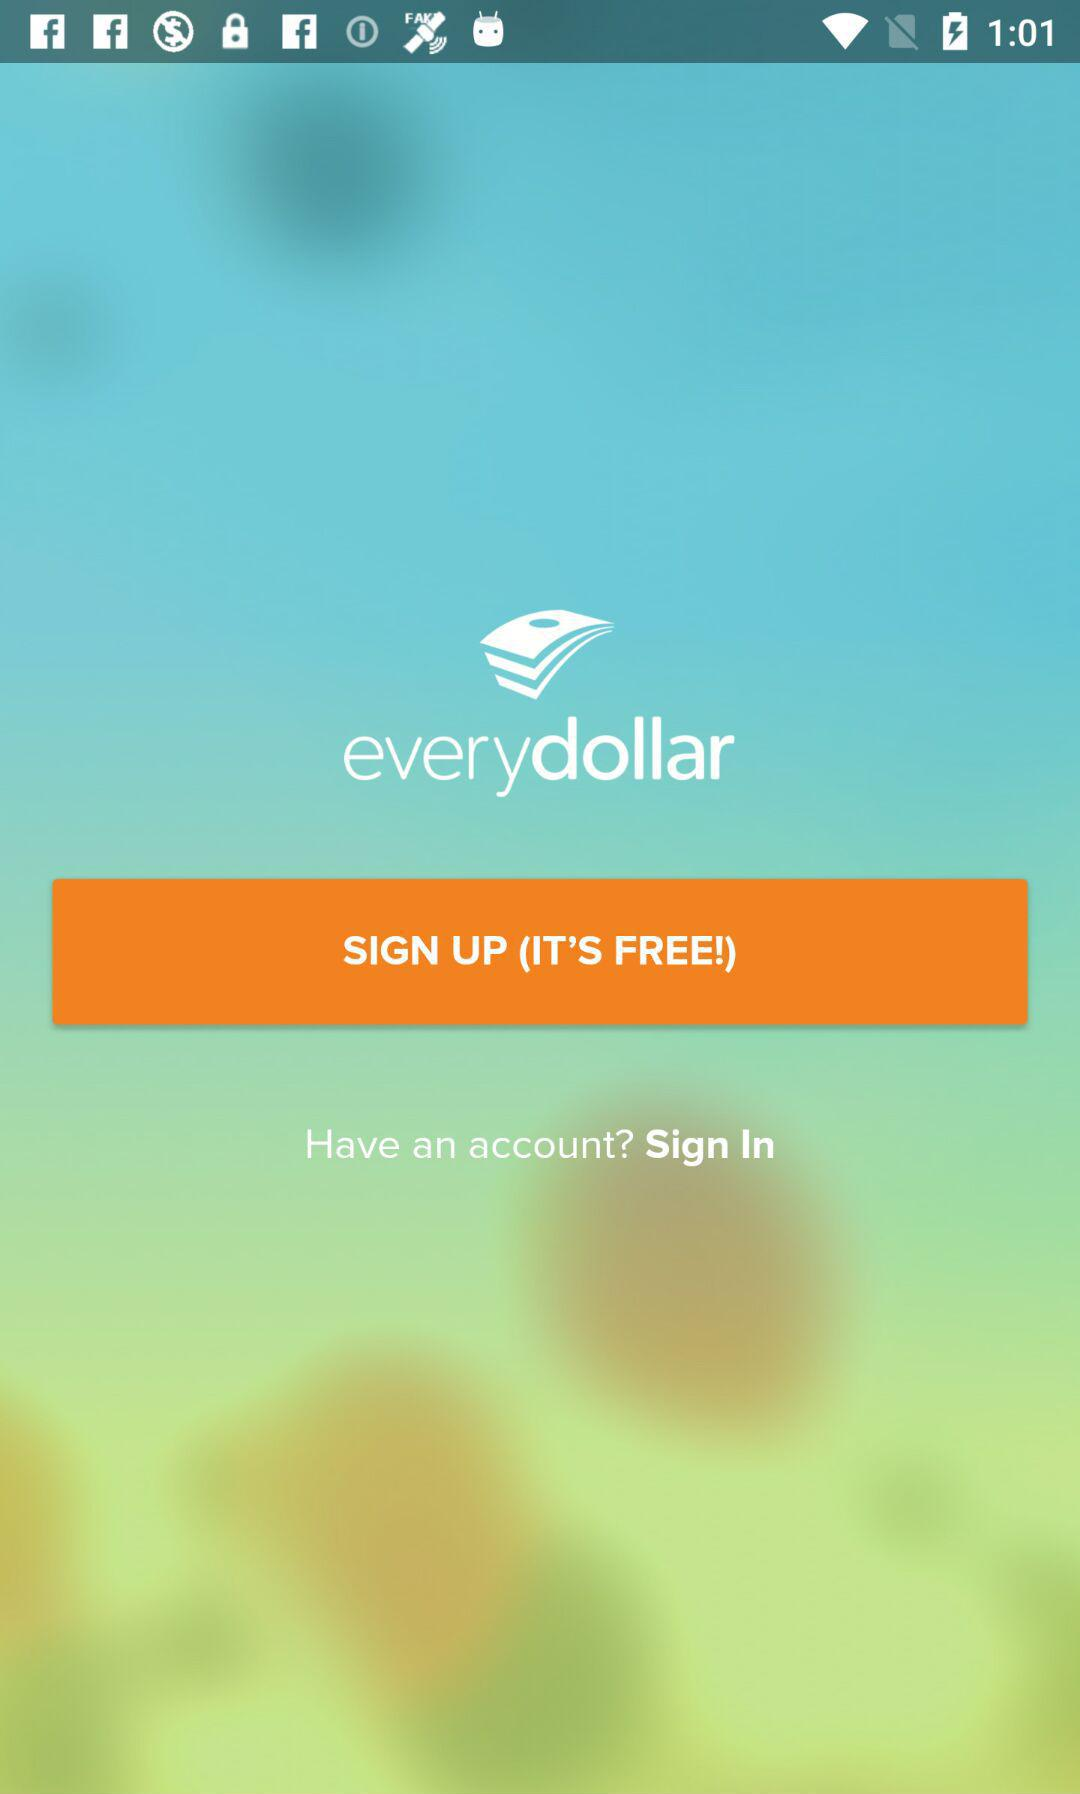Image: (343, 609, 737, 800)
Text: (307, 1128, 775, 1169)
TextButton: (53, 879, 1027, 1025)
UpperTaskBar: (1, 1, 1080, 64)
